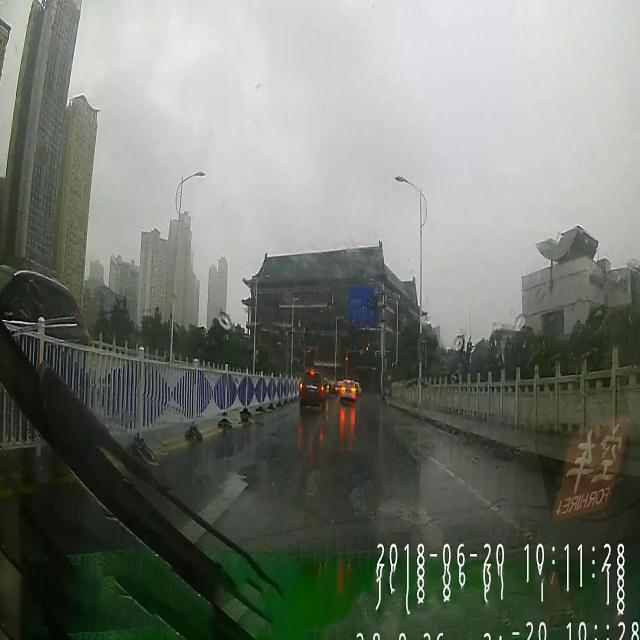car: (0, 270, 92, 416), (297, 368, 327, 412), (338, 378, 356, 402), (325, 380, 340, 396)
